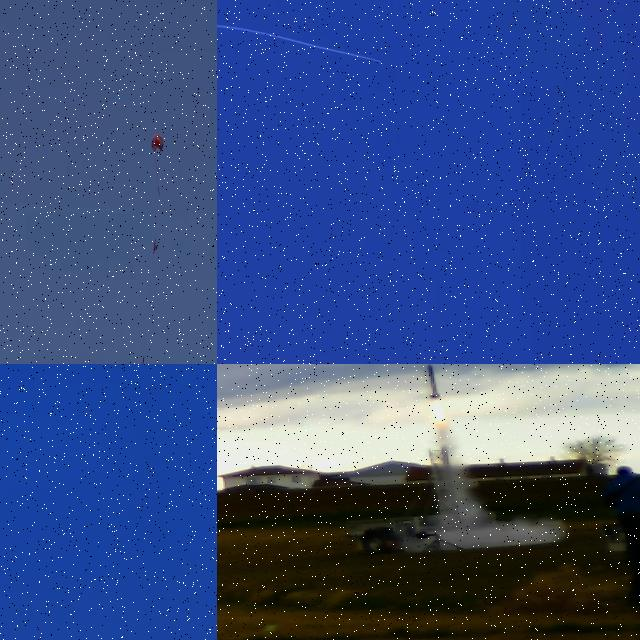Rocket: (425, 364, 443, 399), (140, 355, 144, 364), (379, 61, 382, 62)
